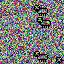sheep: (34, 4, 48, 16), (34, 51, 48, 62), (37, 17, 51, 27), (56, 57, 64, 64)
